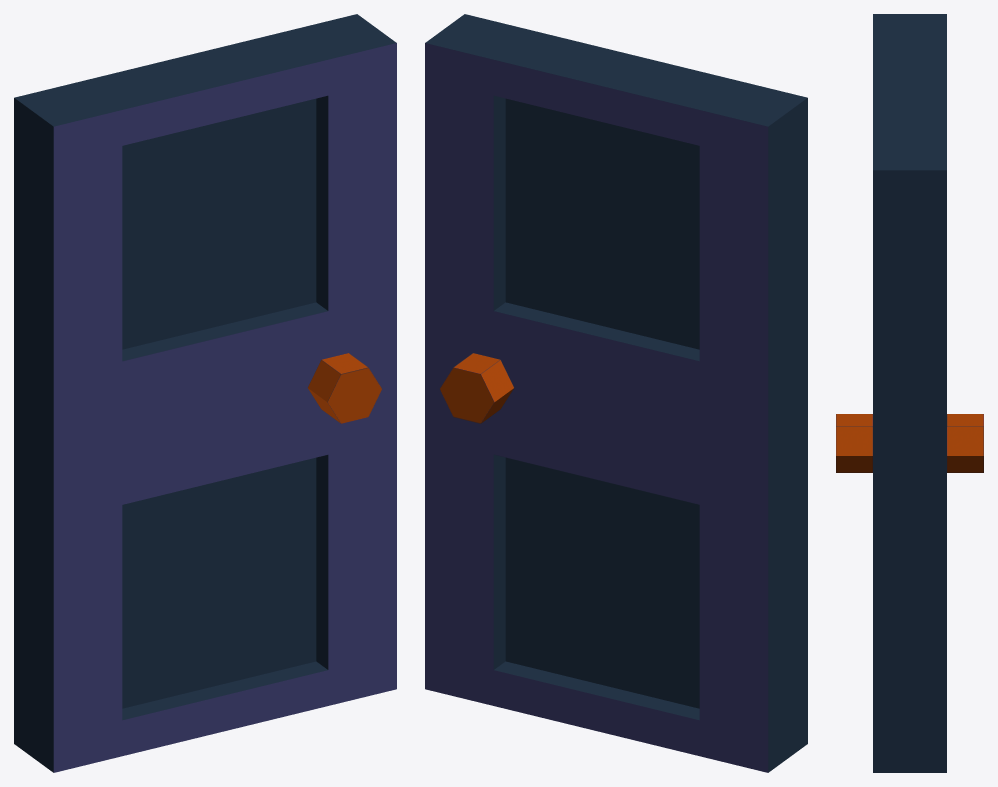
The model's file is door.fbx.
3 views of the same model, side by side, from view 1: azimuth 30°, elevation 25°; view 2: azimuth 150°, elevation 25°; view 3: azimuth 270°, elevation 25° (orthographic). The views are drawn at different scales.
Parts seen in each view (by area): view 1: polySurface5; view 2: polySurface5; view 3: polySurface5.
Boxes of the visible parts, <box> form: polySurface5: <box>14,14,396,772</box>; polySurface5: <box>425,14,807,772</box>; polySurface5: <box>836,14,983,772</box>.
Bounding box in the file's own units: 2.5 × 4.5 × 1.
Materials: 1 (1 with a texture image).
